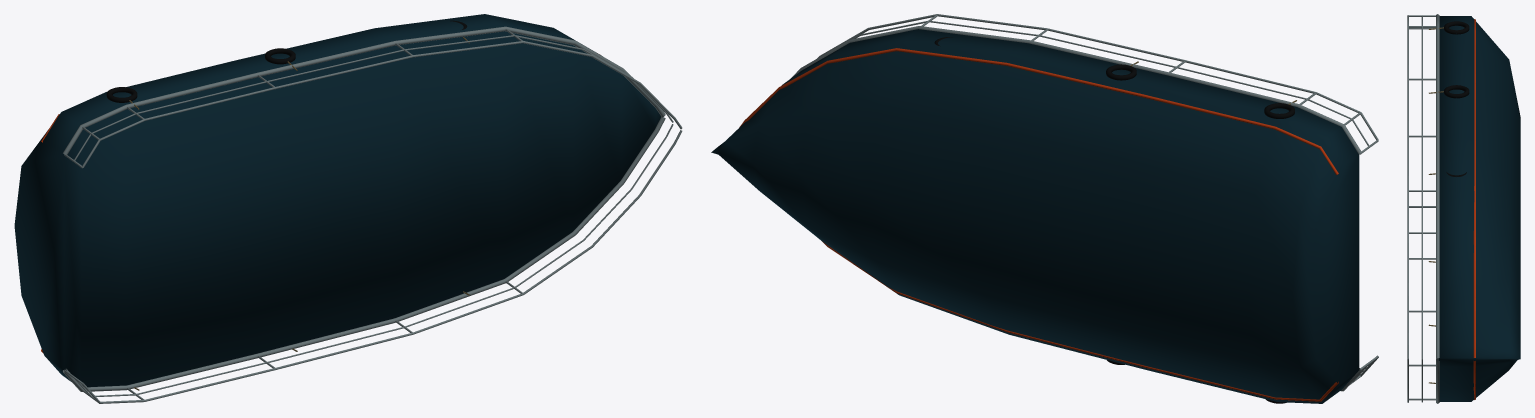
The model's file is SM_TrawlerHull.obj.
3 views of the same model, side by side, from view 1: azimuth 30°, elevation 25°; view 2: azimuth 150°, elevation 25°; view 3: azimuth 270°, elevation 25° (orthographic). The views are drawn at different scales.
Visible parts, largest first — view 1: SM_TrawlerHull; view 2: SM_TrawlerHull; view 3: SM_TrawlerHull.
Part boxes in pixels (x1=…): SM_TrawlerHull: x1=14, y1=14, x2=682, y2=403; SM_TrawlerHull: x1=711, y1=14, x2=1378, y2=403; SM_TrawlerHull: x1=1407, y1=14, x2=1520, y2=403.
Size of the model in its own units: 1751 by 805 by 346.
